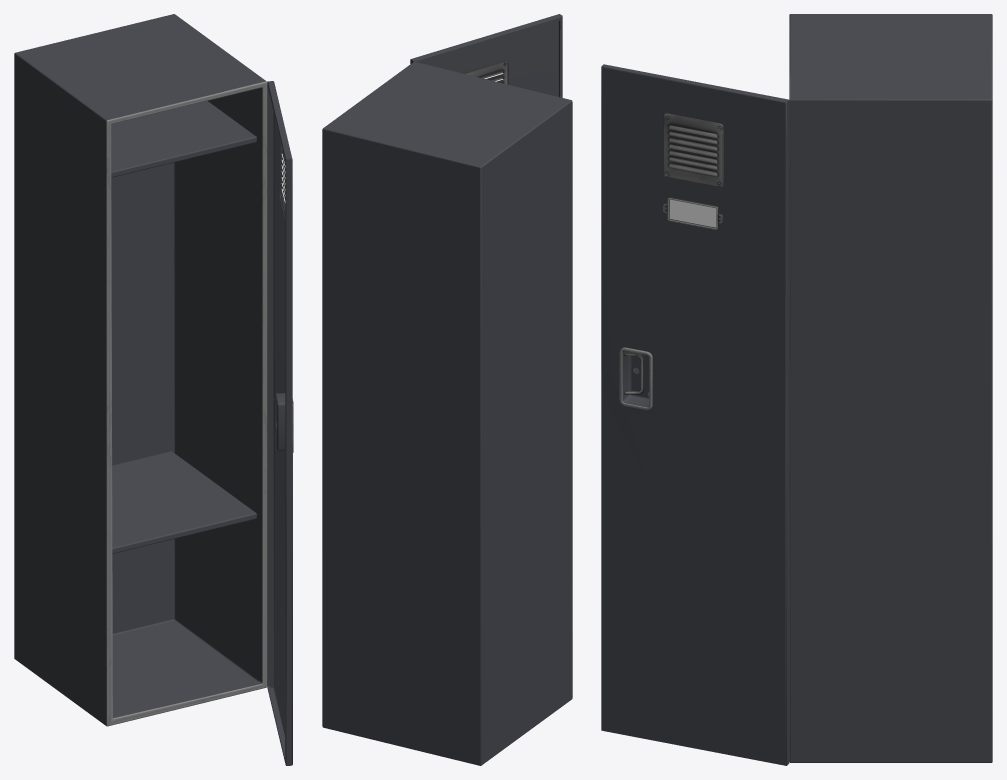
Rendered from locker_open.glb.
3 views of the same model, side by side, from view 1: azimuth 30°, elevation 25°; view 2: azimuth 150°, elevation 25°; view 3: azimuth 270°, elevation 25° (orthographic). The views are drawn at different scales.
Visible parts, largest first — view 1: 01__0, 01_2__0; view 2: 01__0, 01_2__0; view 3: 01__0, 01_2__0.
Part boxes in pixels (x1,y1,x2,y2): 01__0: (14, 14, 267, 726); 01_2__0: (267, 81, 293, 765); 01__0: (322, 62, 572, 765); 01_2__0: (410, 14, 562, 97); 01__0: (789, 14, 992, 762); 01_2__0: (601, 64, 789, 765).
Bounding box in the file's own units: 0.5161 × 1.8 × 0.9616.
1 material, 1 textured.
